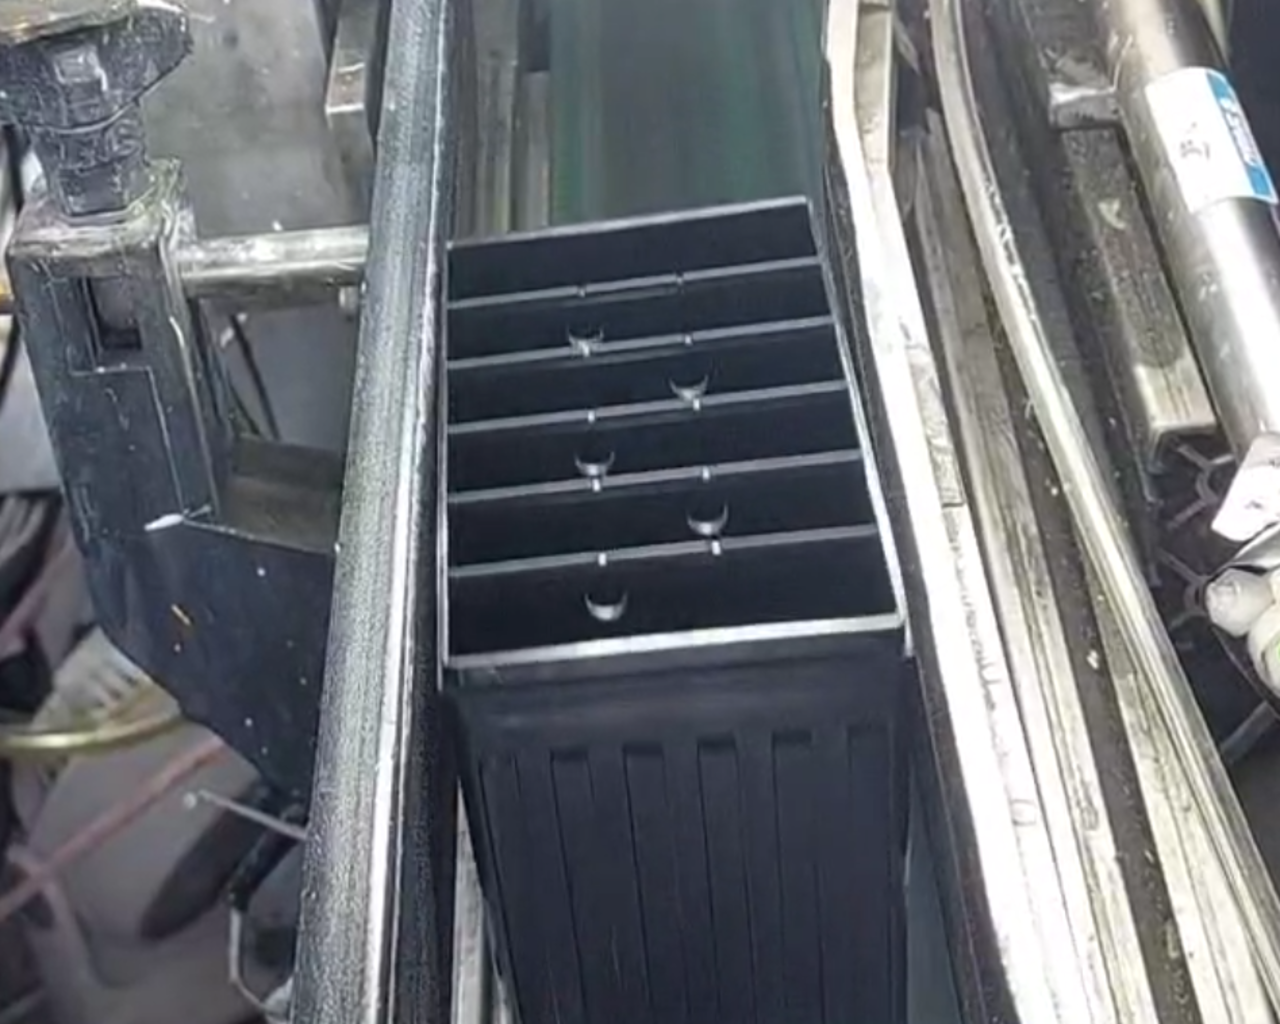box: (416, 171, 931, 709)
round: (562, 569, 644, 629), (648, 346, 720, 408), (555, 428, 629, 485), (550, 303, 619, 360), (673, 487, 740, 543)
